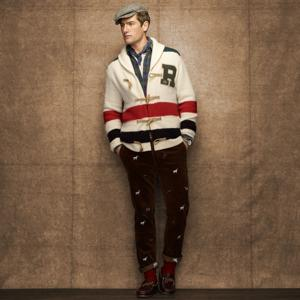C_cardigan sweater: (96, 44, 201, 160)
